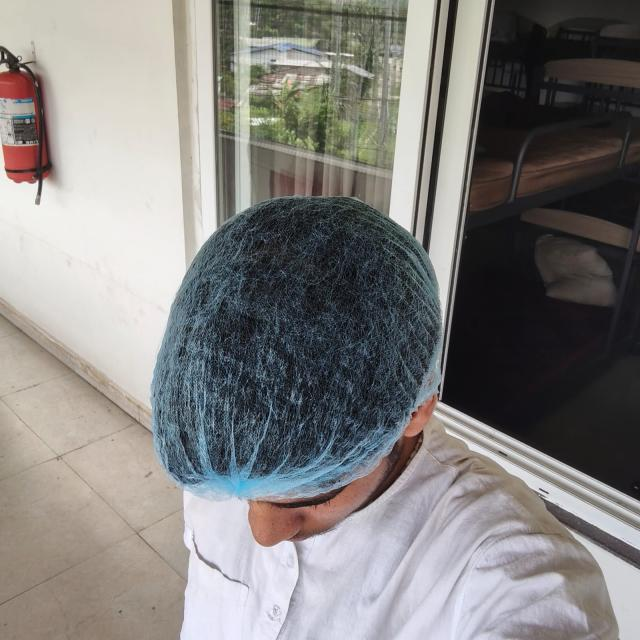hairnet-detection: (107, 179, 526, 562)
